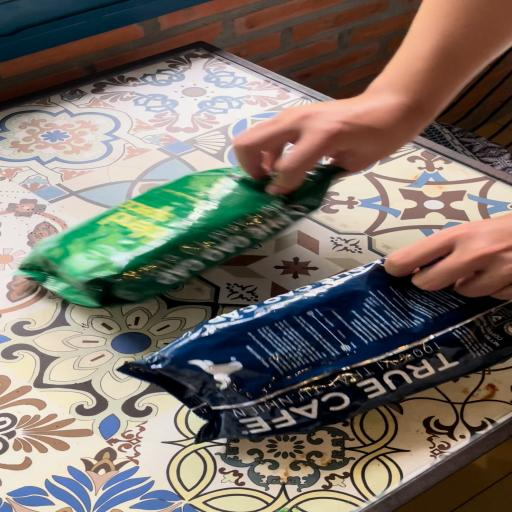cafe_hat: (119, 260, 512, 442)
cafe_xay: (18, 165, 341, 307)
